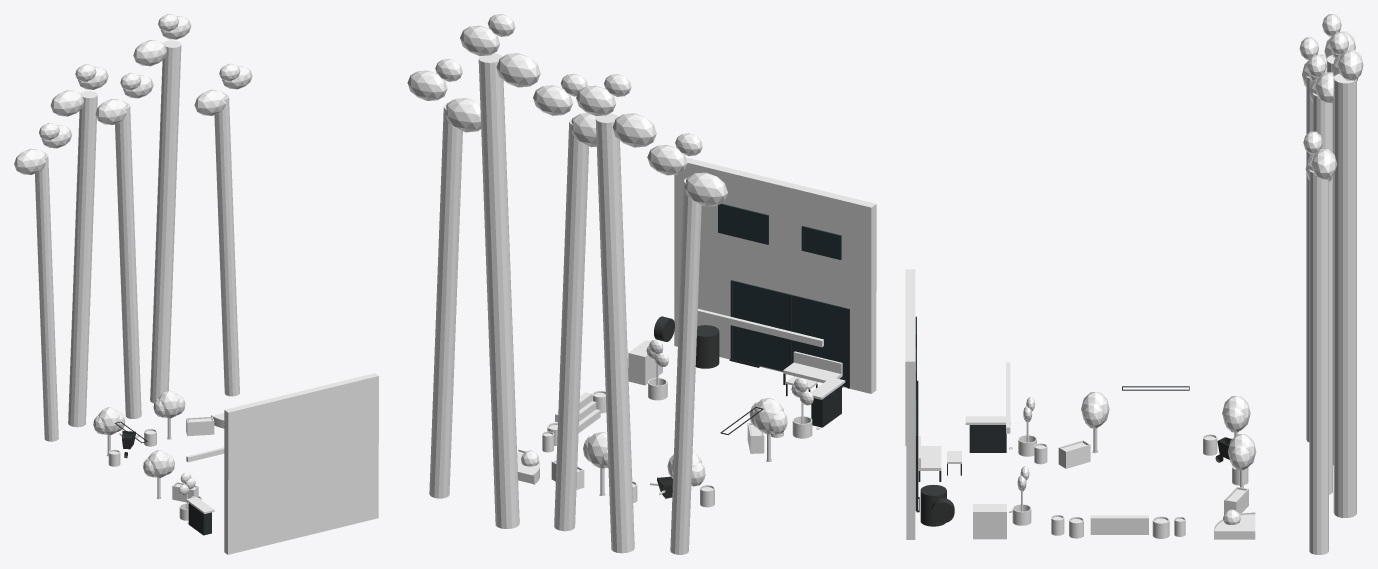
Rendered from garden_v0_18_photo_grounded_model_r1.glb.
3 renders of one model, left to right at view 1: azimuth 30°, elevation 25°; view 2: azimuth 150°, elevation 25°; view 3: azimuth 270°, elevation 25°, orthographic. The views are drawn at different scales.
Parts seen in each view (by area): view 1: V018_CONTEXT__HOUSE_LOWER_FACADE_APPROX, V018_CONTEXT__HOUSE_UPPER_FACADE_APPROX, V018_EXTERNAL__GUM_04__TRUNK, V018_EXTERNAL__GUM_02__TRUNK, V018_EXTERNAL__GUM_03__TRUNK, V018_EXTERNAL__GUM_05__TRUNK, V018_EXTERNAL__GUM_01__TRUNK, V018_EXTERNAL__GUM_02__CROWN_1, V018_EXTERNAL__GUM_04__CROWN_1, V018_EXTERNAL__GUM_01__CROWN_1, V018_EXTERNAL__GUM_05__CROWN_1, V018_EXTERNAL__GUM_03__CROWN_1 (+3 smaller); view 2: V018_CONTEXT__HOUSE_UPPER_FACADE_APPROX, V018_EXTERNAL__GUM_04__TRUNK, V018_EXTERNAL__GUM_02__TRUNK, V018_EXTERNAL__GUM_03__TRUNK, V018_CONTEXT__HOUSE_LOWER_FACADE_APPROX, V018_EXTERNAL__GUM_05__TRUNK, V018_CONTEXT__SLIDING_GLASS_APPROX, V018_EXTERNAL__GUM_01__TRUNK, V018_CONTEXT__UPPER_WINDOW_RIGHT, V018_EXTERNAL__GUM_04__CROWN_1, V018_EXTERNAL__GUM_02__CROWN_1, V018_EXTERNAL__GUM_01__CROWN_1 (+16 smaller); view 3: V018_EXTERNAL__GUM_04__TRUNK, V018_EXTERNAL__GUM_05__TRUNK, V018_EXTERNAL__GUM_03__TRUNK, V018_CONTEXT__HOUSE_UPPER_FACADE_APPROX, V018_EXTERNAL__GUM_01__TRUNK, V010_R5_APPROVED__AC__AC, V010_R10_2_PART__WK__WORK__CABINET, V018_CONTEXT__HOUSE_LOWER_FACADE_APPROX, V016_R1__RHIZOME_BED__FILL, V010_R5_APPROVED__WF__WORM, V018_EXTERNAL__GUM_04__CROWN_2, V018_EXTERNAL__GUM_05__CROWN_2 (+1 smaller).
Boxes of the visible parts, box(x1,y1,x2,y2) form: V018_CONTEXT__HOUSE_LOWER_FACADE_APPROX: box(224, 443, 378, 554); V018_CONTEXT__HOUSE_UPPER_FACADE_APPROX: box(224, 373, 378, 479); V018_EXTERNAL__GUM_04__TRUNK: box(150, 40, 181, 403); V018_EXTERNAL__GUM_02__TRUNK: box(68, 91, 97, 427); V018_EXTERNAL__GUM_03__TRUNK: box(115, 103, 141, 418); V018_EXTERNAL__GUM_05__TRUNK: box(214, 94, 239, 396); V018_EXTERNAL__GUM_01__TRUNK: box(35, 153, 58, 441); V018_EXTERNAL__GUM_02__CROWN_1: box(50, 90, 83, 116); V018_EXTERNAL__GUM_04__CROWN_1: box(133, 40, 166, 66); V018_EXTERNAL__GUM_01__CROWN_1: box(14, 149, 46, 174); V018_EXTERNAL__GUM_05__CROWN_1: box(194, 89, 226, 115); V018_EXTERNAL__GUM_03__CROWN_1: box(95, 99, 127, 124); V018_CONTEXT__HOUSE_UPPER_FACADE_APPROX: box(674, 157, 876, 295); V018_EXTERNAL__GUM_04__TRUNK: box(478, 53, 519, 528); V018_EXTERNAL__GUM_02__TRUNK: box(595, 113, 634, 553); V018_EXTERNAL__GUM_03__TRUNK: box(554, 118, 588, 531); V018_CONTEXT__HOUSE_LOWER_FACADE_APPROX: box(674, 248, 876, 393); V018_EXTERNAL__GUM_05__TRUNK: box(429, 103, 462, 498); V018_CONTEXT__SLIDING_GLASS_APPROX: box(733, 280, 847, 386); V018_EXTERNAL__GUM_01__TRUNK: box(670, 178, 701, 554); V018_CONTEXT__UPPER_WINDOW_RIGHT: box(718, 203, 768, 244); V018_EXTERNAL__GUM_04__CROWN_1: box(496, 53, 540, 87); V018_EXTERNAL__GUM_02__CROWN_1: box(612, 113, 656, 147); V018_EXTERNAL__GUM_01__CROWN_1: box(683, 172, 727, 206); V018_EXTERNAL__GUM_04__TRUNK: box(1333, 73, 1356, 517); V018_EXTERNAL__GUM_05__TRUNK: box(1309, 169, 1328, 554); V018_EXTERNAL__GUM_03__TRUNK: box(1312, 92, 1332, 494); V018_CONTEXT__HOUSE_UPPER_FACADE_APPROX: box(905, 269, 915, 445); V018_EXTERNAL__GUM_01__TRUNK: box(1306, 75, 1312, 441); V010_R5_APPROVED__AC__AC: box(973, 504, 1006, 539); V010_R10_2_PART__WK__WORK__CABINET: box(969, 425, 1006, 452); V018_CONTEXT__HOUSE_LOWER_FACADE_APPROX: box(906, 446, 915, 539); V016_R1__RHIZOME_BED__FILL: box(1214, 514, 1255, 539); V010_R5_APPROVED__WF__WORM: box(920, 484, 946, 526); V018_EXTERNAL__GUM_04__CROWN_2: box(1338, 50, 1363, 80); V018_EXTERNAL__GUM_05__CROWN_2: box(1311, 149, 1336, 179).
Size of the model in its own units: 9.18 by 14.21 by 12.18.
